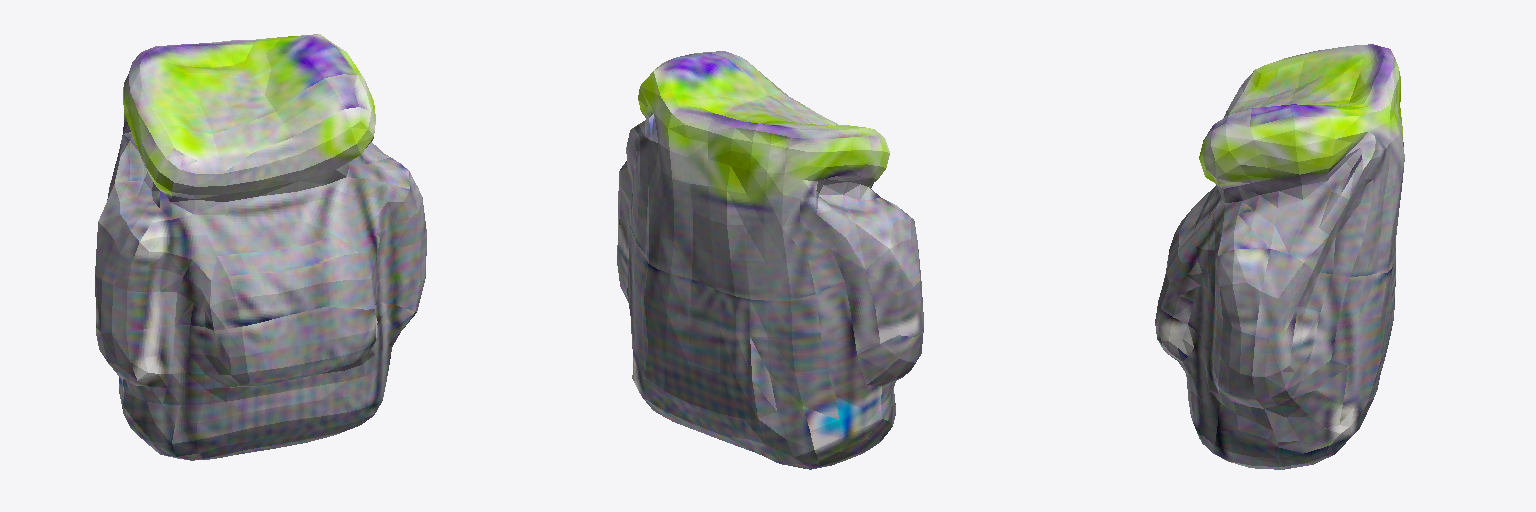
3 renders of one model, left to right at view 1: azimuth 30°, elevation 25°; view 2: azimuth 150°, elevation 25°; view 3: azimuth 270°, elevation 25°, orthographic.
Bounding box in the file's own units: 0.8822 × 1 × 0.616.
1 materials, 1 textured.